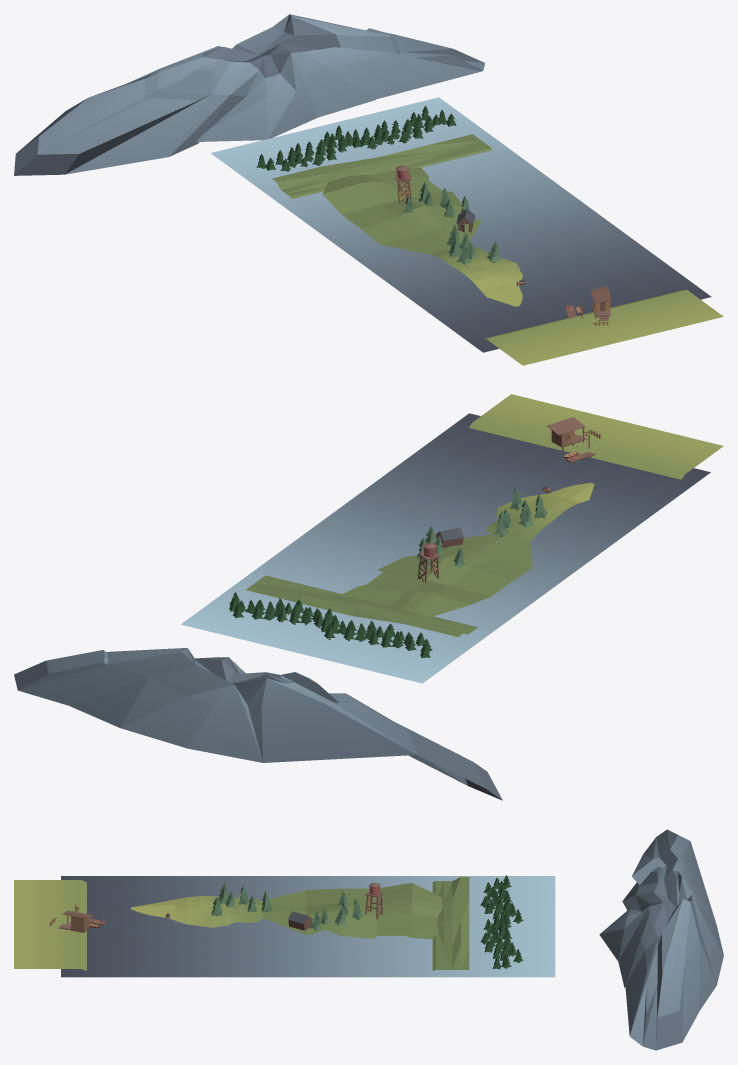
The model's file is banrot.fbx.
The picture shows the model from 3 angles, top to bottom: view 1: azimuth 30°, elevation 25°; view 2: azimuth 150°, elevation 25°; view 3: azimuth 270°, elevation 25°; orthographic projection. The views are drawn at different scales.
Visible parts, largest first — view 1: Water.001, Ground baotrn.002, Ground baotrn.001, Groundnear, Ground baotrn, Forest tree, Home.002; view 2: Water.001, Ground baotrn.002, Ground baotrn.001, Groundnear, Ground baotrn, Forest tree, Home.002; view 3: Water.001, Ground baotrn.002, Groundnear, Ground baotrn.001, Ground baotrn, Forest tree, Home.002, Water tower.001.
Part boxes in pixels (bbox=[...]): Water.001: bbox=[211, 97, 711, 352]; Ground baotrn.002: bbox=[14, 14, 484, 175]; Ground baotrn.001: bbox=[272, 134, 723, 365]; Groundnear: bbox=[322, 166, 522, 306]; Ground baotrn: bbox=[256, 106, 456, 171]; Forest tree: bbox=[404, 182, 500, 264]; Home.002: bbox=[590, 286, 611, 320]; Water.001: bbox=[181, 413, 710, 683]; Ground baotrn.002: bbox=[14, 648, 502, 800]; Ground baotrn.001: bbox=[246, 394, 723, 636]; Groundnear: bbox=[343, 483, 594, 617]; Ground baotrn: bbox=[229, 592, 432, 657]; Forest tree: bbox=[417, 487, 547, 568]; Home.002: bbox=[547, 417, 586, 450]; Water.001: bbox=[61, 876, 555, 977]; Ground baotrn.002: bbox=[599, 829, 723, 1050]; Groundnear: bbox=[131, 883, 442, 939]; Ground baotrn.001: bbox=[14, 877, 469, 970]; Ground baotrn: bbox=[480, 875, 523, 969]; Forest tree: bbox=[211, 883, 363, 931]; Home.002: bbox=[58, 910, 94, 932]; Water tower.001: bbox=[365, 883, 383, 919].
Bounding box in the file's own units: 58.51 × 10.15 × 85.08.
